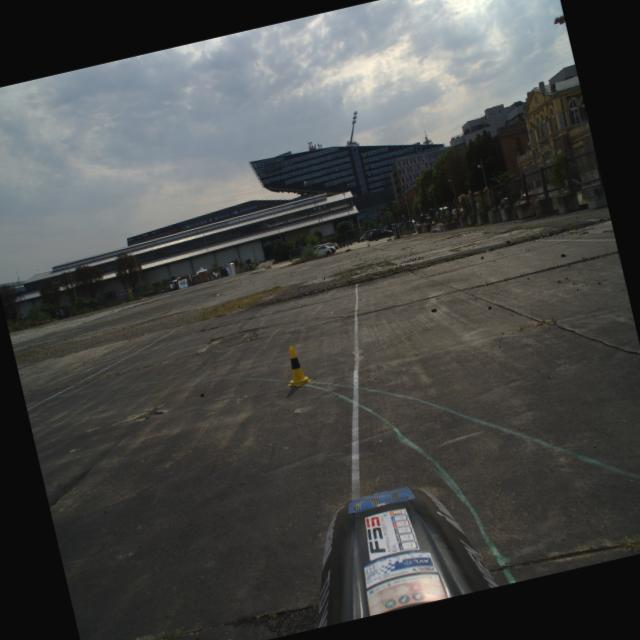yellow_cone: (278, 343, 312, 388)
